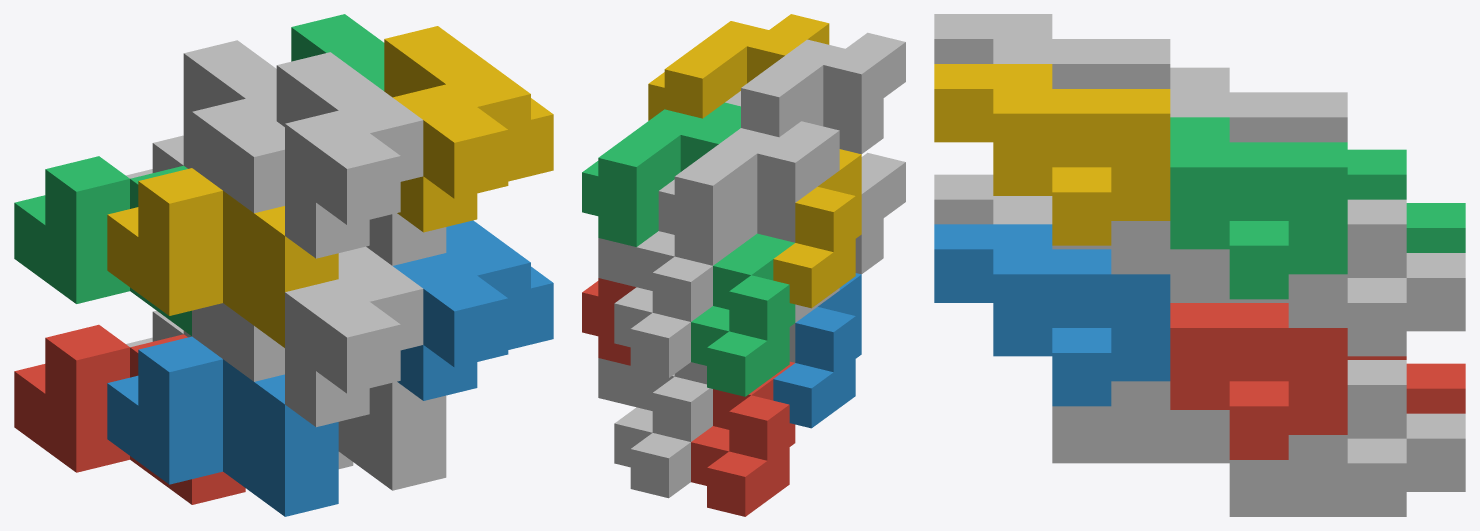
File: tiling.obj
The picture shows the model from 3 angles, left to right: view 1: azimuth 30°, elevation 25°; view 2: azimuth 150°, elevation 25°; view 3: azimuth 270°, elevation 25°; orthographic projection. The views are drawn at different scales.
Visible parts, largest first — view 1: copy_1_domain_2, copy_1_domain_4, copy_2_domain_4, copy_2_domain_8, copy_2_domain_2, copy_2_domain_6, copy_1_domain_1, copy_2_domain_3, copy_1_domain_3, copy_1_domain_6, copy_2_domain_1, copy_2_domain_7 (+3 smaller); view 2: copy_2_domain_3, copy_2_domain_4, copy_1_domain_3, copy_2_domain_7, copy_1_domain_7, copy_1_domain_5, copy_1_domain_1, copy_2_domain_8, copy_1_domain_4, copy_1_domain_2, copy_2_domain_2, copy_2_domain_5 (+1 smaller); view 3: copy_2_domain_8, copy_2_domain_6, copy_2_domain_7, copy_1_domain_5, copy_2_domain_5, copy_1_domain_7, copy_2_domain_4, copy_1_domain_6, copy_2_domain_3, copy_1_domain_8, copy_1_domain_3, copy_2_domain_2 (+1 smaller).
Part boxes in pixels (<box>): copy_1_domain_2: <box>107,336,338,516</box>; copy_1_domain_4: <box>107,168,338,347</box>; copy_2_domain_4: <box>276,52,423,258</box>; copy_2_domain_8: <box>384,26,553,232</box>; copy_2_domain_2: <box>285,246,423,427</box>; copy_2_domain_6: <box>393,220,553,400</box>; copy_1_domain_1: <box>14,324,245,504</box>; copy_2_domain_3: <box>183,40,284,213</box>; copy_1_domain_3: <box>14,156,191,335</box>; copy_1_domain_6: <box>338,381,446,490</box>; copy_2_domain_1: <box>183,303,284,381</box>; copy_2_domain_7: <box>291,14,384,90</box>; copy_2_domain_3: <box>658,121,839,265</box>; copy_2_domain_4: <box>725,32,905,154</box>; copy_1_domain_3: <box>691,233,795,396</box>; copy_2_domain_7: <box>582,102,740,246</box>; copy_1_domain_7: <box>598,231,712,378</box>; copy_1_domain_5: <box>598,358,712,498</box>; copy_1_domain_1: <box>691,361,795,516</box>; copy_2_domain_8: <box>648,14,829,120</box>; copy_1_domain_4: <box>773,149,861,308</box>; copy_1_domain_2: <box>773,273,861,428</box>; copy_2_domain_2: <box>855,152,905,274</box>; copy_2_domain_5: <box>582,278,636,365</box>; copy_2_domain_8: <box>934,64,1170,245</box>; copy_2_domain_6: <box>934,224,1170,406</box>; copy_2_domain_7: <box>1170,117,1347,299</box>; copy_1_domain_5: <box>1229,360,1465,516</box>; copy_2_domain_5: <box>1170,303,1347,459</box>; copy_1_domain_7: <box>1229,199,1465,356</box>; copy_2_domain_4: <box>934,14,1170,88</box>; copy_1_domain_6: <box>1052,381,1229,463</box>; copy_2_domain_3: <box>1170,67,1347,142</box>; copy_1_domain_8: <box>1052,221,1229,302</box>; copy_1_domain_3: <box>1347,149,1465,252</box>; copy_2_domain_2: <box>934,174,1052,224</box>.
Bounding box in the file's own units: 6 × 8 × 9.
